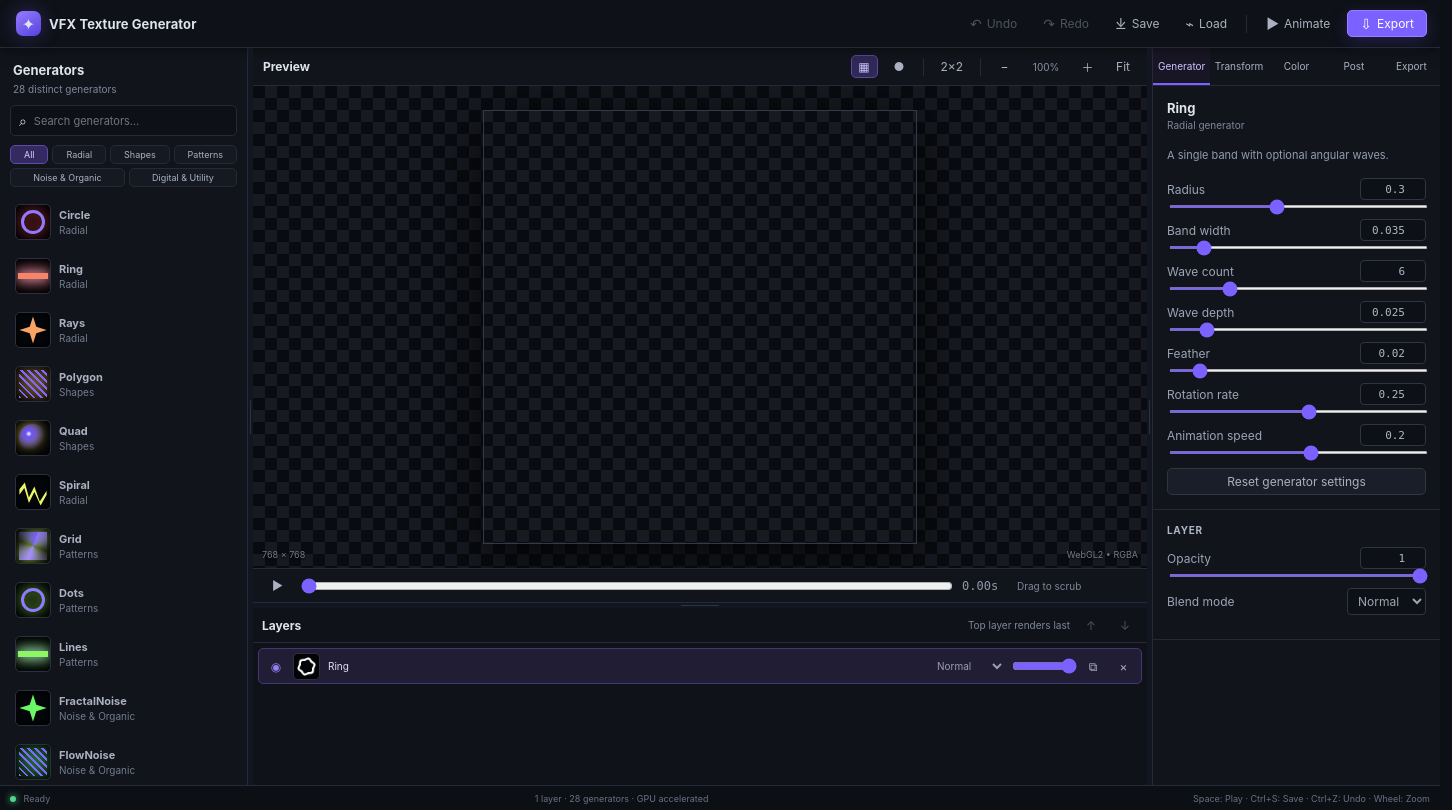
Test: editing workflow › only exposes random seeds for generators with random structure
Expected: the slider labelled "Seed" is not shown
Click the button "FractalNoise Noise & Organic".
click(124, 708)  # box [7,681,240,735]
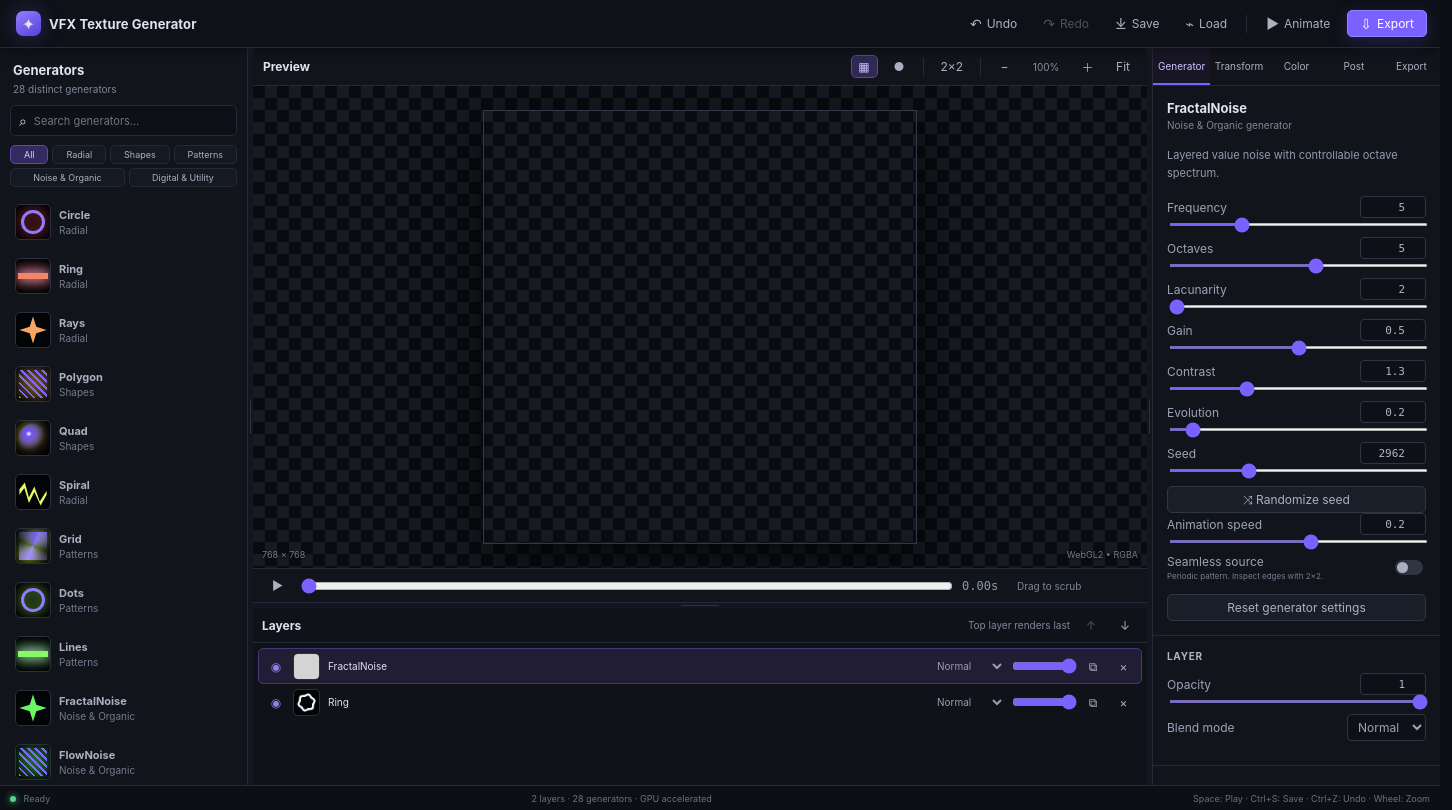
Now the slider named "Seed" is shown, box [1169,469,1428,472]
